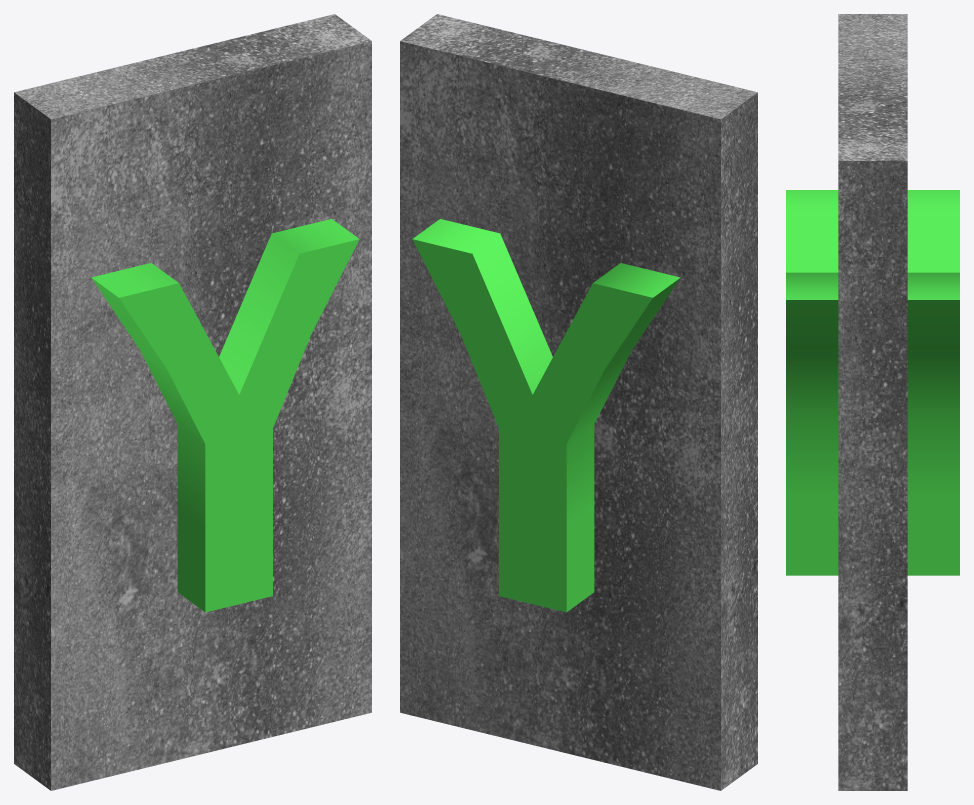
The model's file is stone_Y.fbx.
The picture shows the model from 3 angles, left to right: view 1: azimuth 30°, elevation 25°; view 2: azimuth 150°, elevation 25°; view 3: azimuth 270°, elevation 25°; orthographic projection. The views are drawn at different scales.
Visible parts, largest first — view 1: Box001, Box002; view 2: Box001, Box002; view 3: Box001, Box002.
Boxes of the visible parts, x1,y1,x2,y2 form: Box001: (14, 14, 371, 790); Box002: (91, 219, 359, 612); Box001: (400, 14, 757, 790); Box002: (412, 219, 680, 612); Box001: (838, 14, 907, 790); Box002: (786, 190, 959, 575).
Size of the model in its own units: 78.74 by 39.37 by 157.
2 materials, 2 textured.
